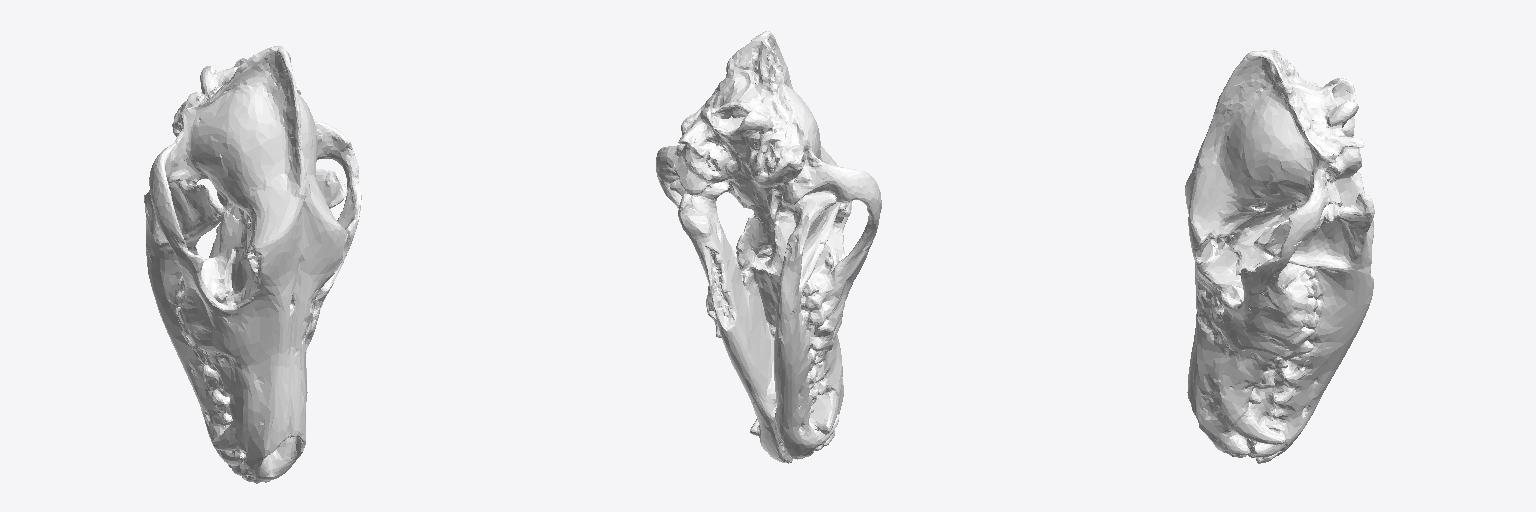
File: D64_red.obj
3 views of the same model, side by side, from view 1: azimuth 30°, elevation 25°; view 2: azimuth 150°, elevation 25°; view 3: azimuth 270°, elevation 25° (orthographic).
Bounding box in the file's own units: 116 × 224 × 91.12.